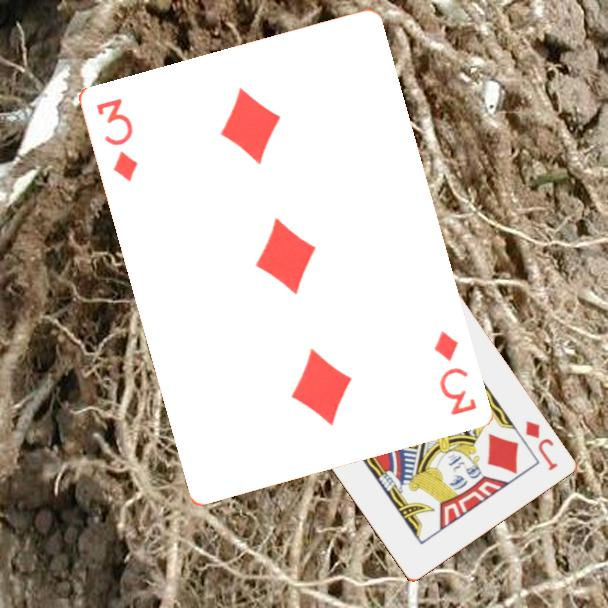d03: (430, 327, 479, 418), (92, 94, 140, 185)
d11: (521, 417, 560, 474)
